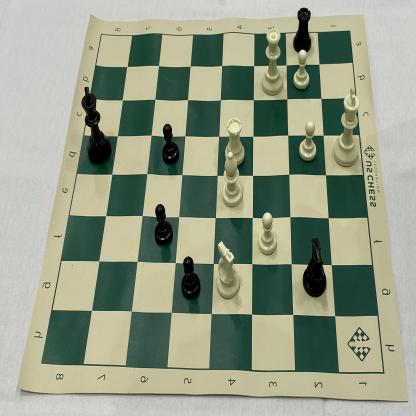black-king: (77, 82, 114, 168)
black-knight: (300, 235, 328, 302)
black-pawn: (152, 198, 175, 250), (179, 252, 202, 302), (160, 122, 181, 170)
black-rook: (292, 3, 316, 56)
white-bishop: (219, 150, 244, 209)
white-king: (331, 85, 363, 170)
white-knight: (214, 238, 242, 302)
white-pawn: (256, 208, 281, 258), (297, 116, 320, 165), (289, 47, 313, 92)
white-queen: (258, 25, 284, 100)
white-rook: (222, 115, 247, 169)
